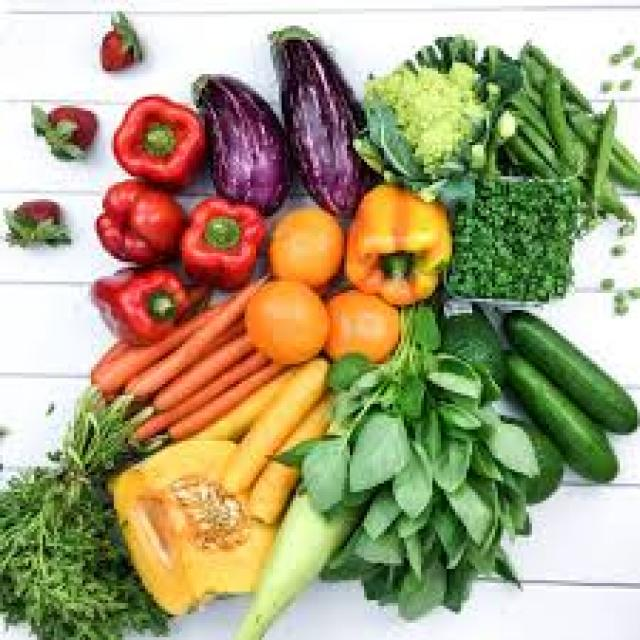organic waste: (264, 299, 534, 620), (0, 398, 159, 637), (108, 438, 270, 614), (230, 481, 362, 637), (267, 23, 370, 210), (495, 302, 637, 432), (122, 270, 262, 401), (524, 40, 638, 185), (498, 347, 614, 486), (515, 54, 637, 182), (358, 62, 481, 176), (219, 350, 321, 486), (452, 179, 572, 293), (191, 74, 290, 208), (342, 180, 446, 304), (85, 302, 225, 392), (128, 350, 265, 438), (253, 398, 339, 521), (108, 88, 205, 185), (88, 259, 194, 341), (168, 362, 282, 432), (91, 174, 188, 256), (176, 190, 259, 282), (242, 273, 327, 361), (154, 333, 258, 404), (401, 34, 521, 91), (264, 199, 342, 285), (202, 364, 296, 435), (322, 279, 398, 364), (438, 298, 498, 389), (347, 407, 410, 489), (538, 63, 583, 174), (444, 469, 495, 544), (296, 438, 347, 512), (31, 102, 97, 156), (467, 102, 518, 168), (390, 432, 430, 515), (0, 196, 68, 244), (486, 421, 540, 481), (426, 350, 481, 404), (583, 94, 609, 202), (97, 3, 139, 65), (347, 515, 401, 563), (515, 120, 560, 170), (436, 421, 470, 486), (512, 94, 558, 142), (429, 353, 478, 398), (518, 62, 554, 116), (324, 350, 376, 387), (509, 134, 555, 174), (356, 492, 398, 535), (350, 131, 384, 179), (412, 302, 436, 347), (401, 524, 421, 574), (483, 77, 498, 108), (614, 222, 632, 236), (614, 77, 632, 88), (609, 48, 620, 62), (612, 302, 628, 310), (623, 40, 634, 51), (629, 284, 637, 298), (600, 273, 609, 285), (611, 290, 623, 299), (612, 242, 620, 253), (597, 77, 603, 88), (629, 57, 637, 62)
